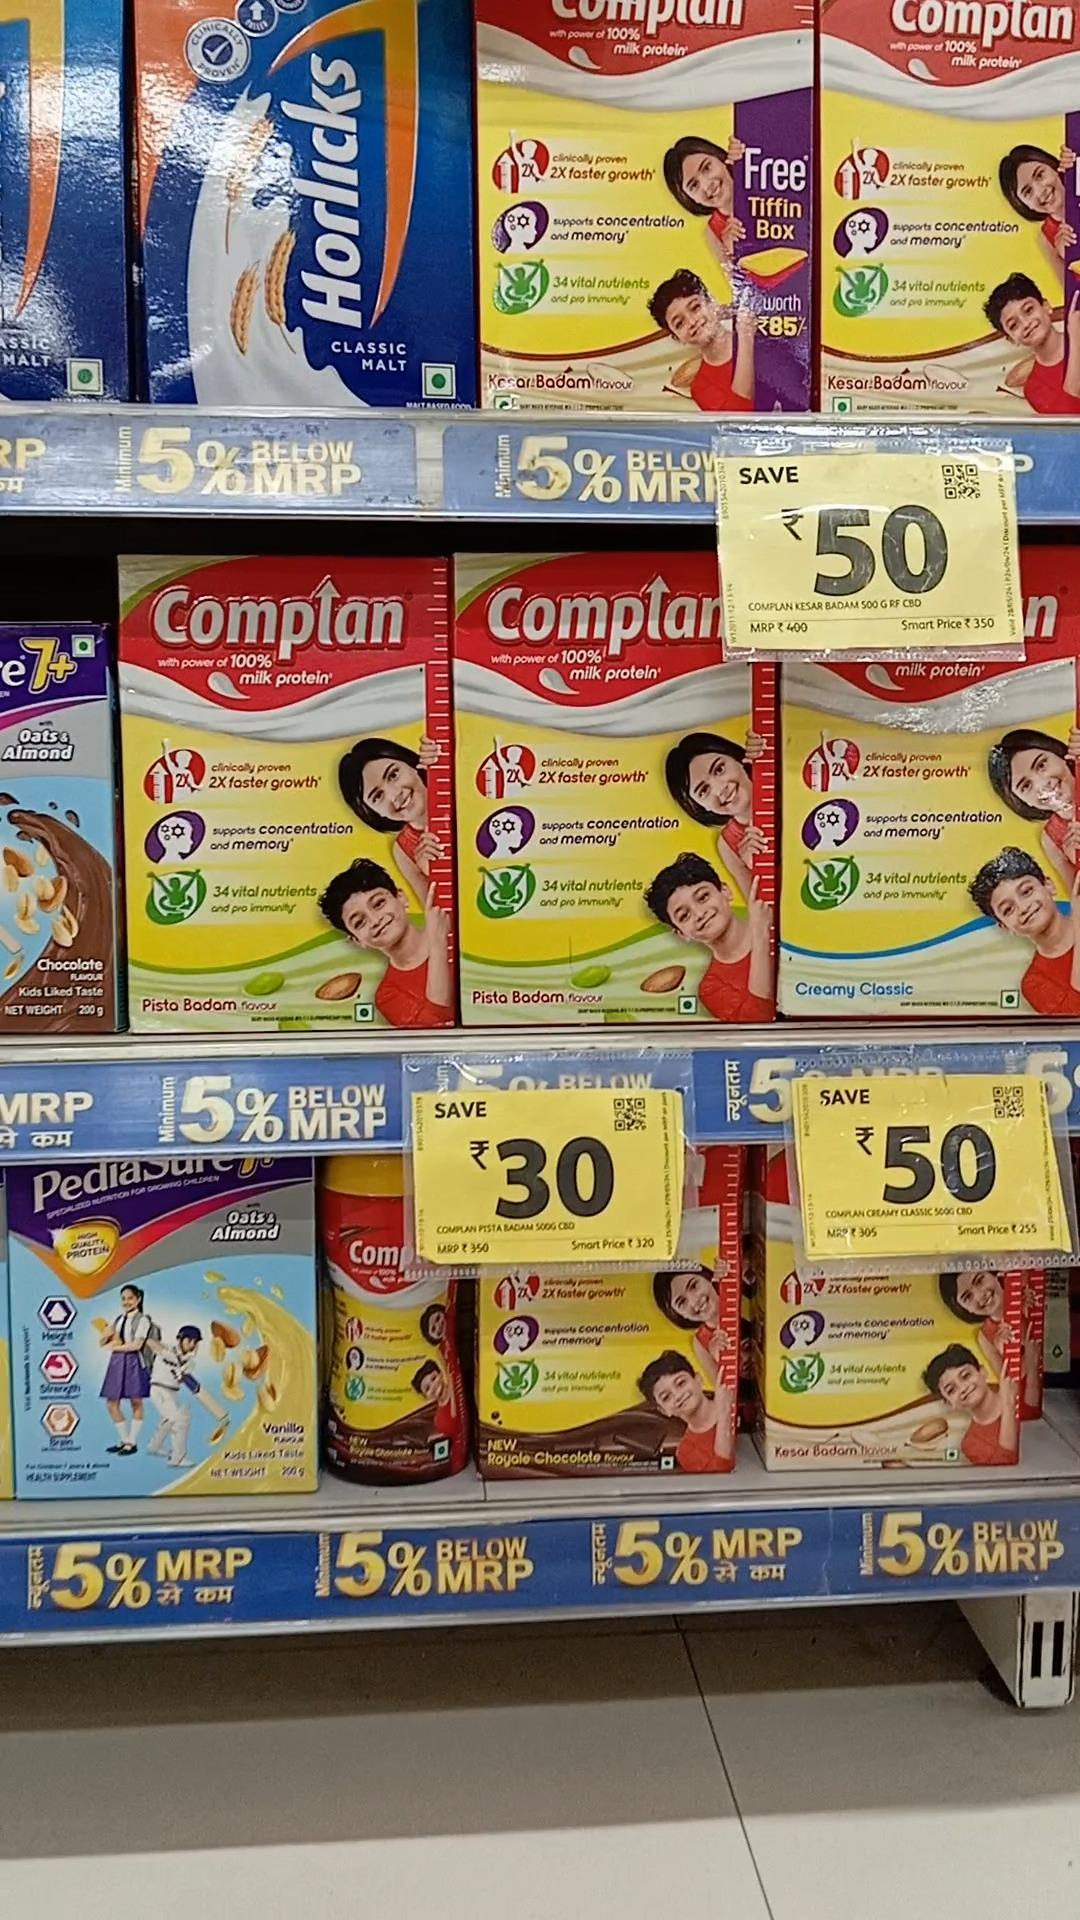COMPLAN_CHOCOLATE_200_GMS_JAR: (320, 1150, 469, 1482)
COMPLAN_CREAMY_CLASSIC_500_G_PACK: (789, 642, 1080, 1017)
COMPLAN_KESAR_BADAM_500_GMS_PACK: (488, 0, 812, 415), (819, 0, 1080, 410)
COMPLAN_PISTA_BADAM_500_GMS_PACK: (120, 559, 448, 1031), (459, 559, 783, 1027)
HORLICK_CLASSIC_MALT_500_G_PACK: (136, 0, 480, 405)
